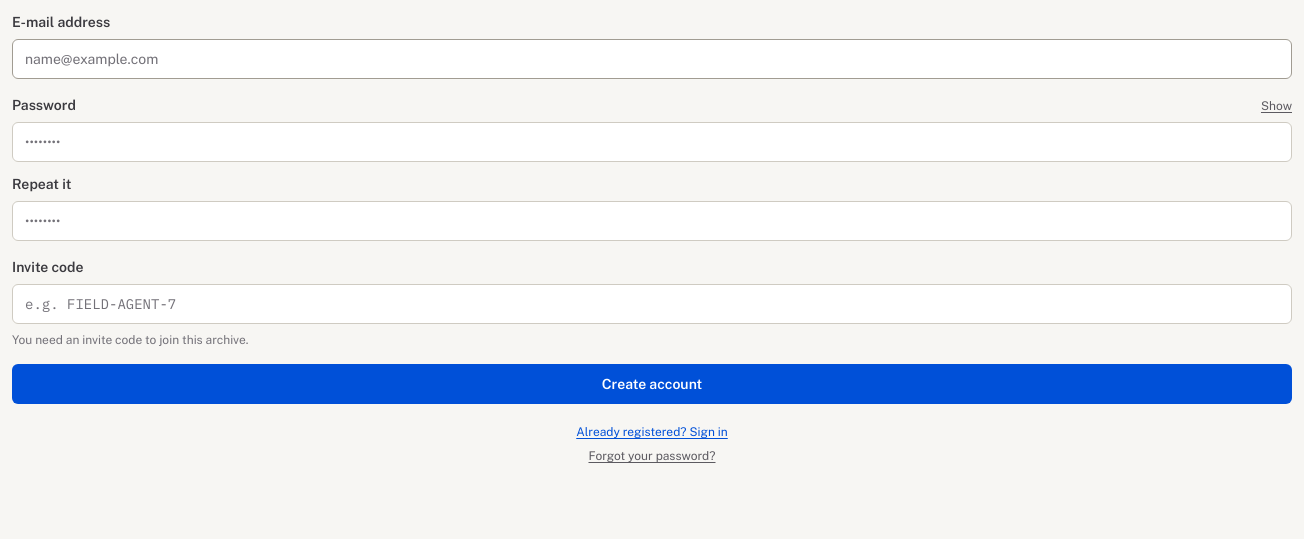
authentication and previews › refuses a signup whose two passwords disagree, without a round trip
Step 1. Type "a@b.test" into the field labelled "E-mail address" → [652, 59], box [12,39,1292,79]
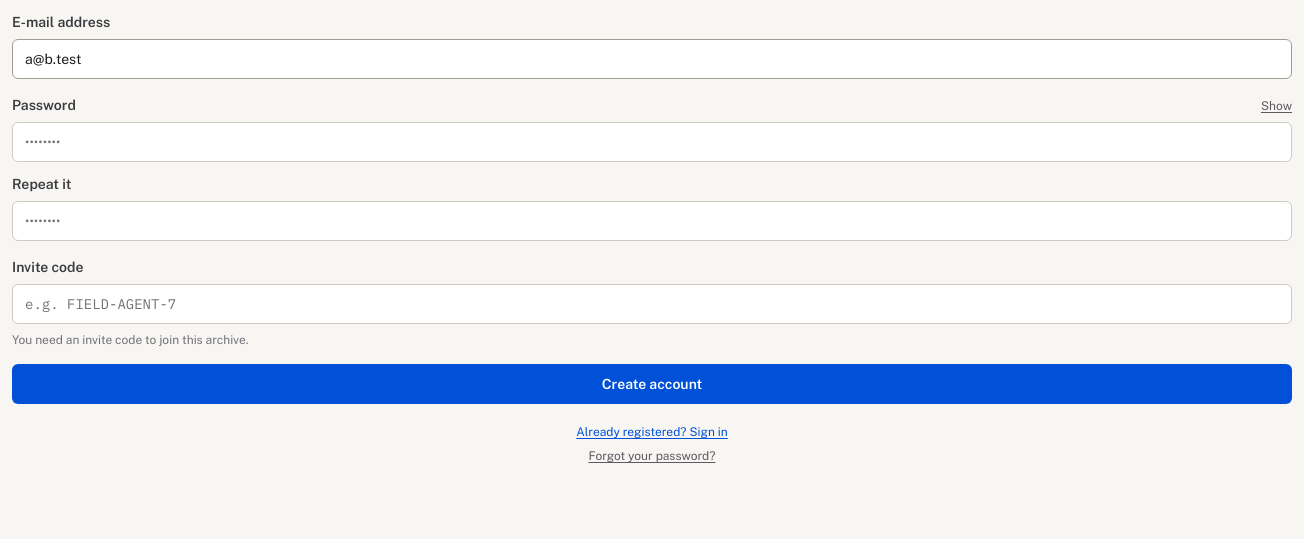
Step 2. Type "example-password" into the password field labelled "Password" → [652, 142], box [12,122,1292,162]
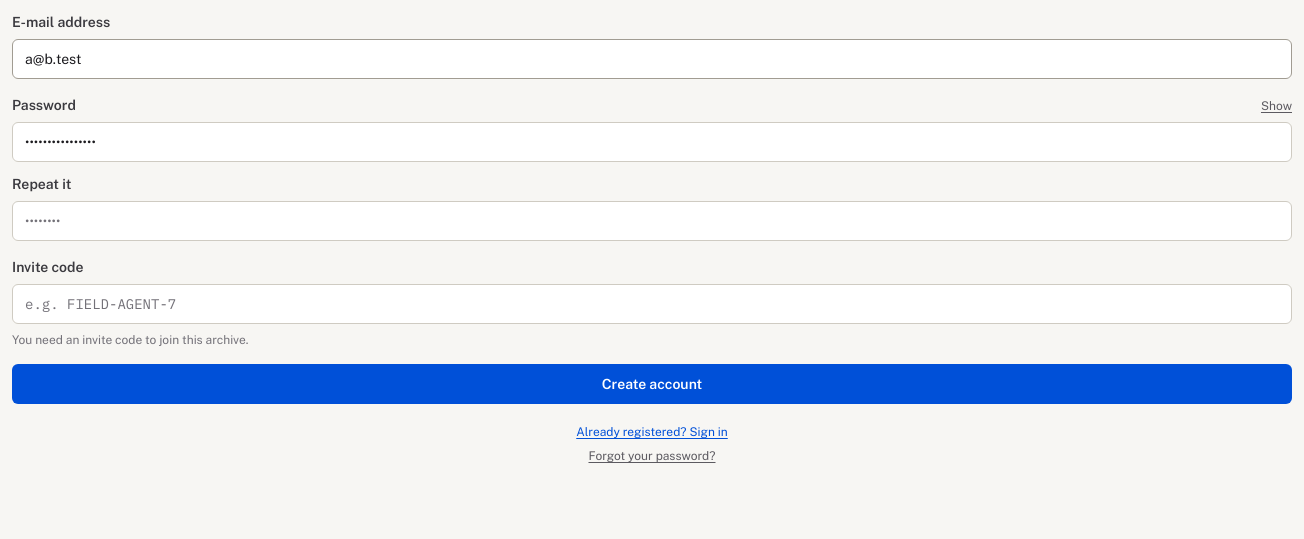
Step 3. Type "example-passwrod" into the password field labelled "Repeat it" → [652, 221], box [12,201,1292,241]
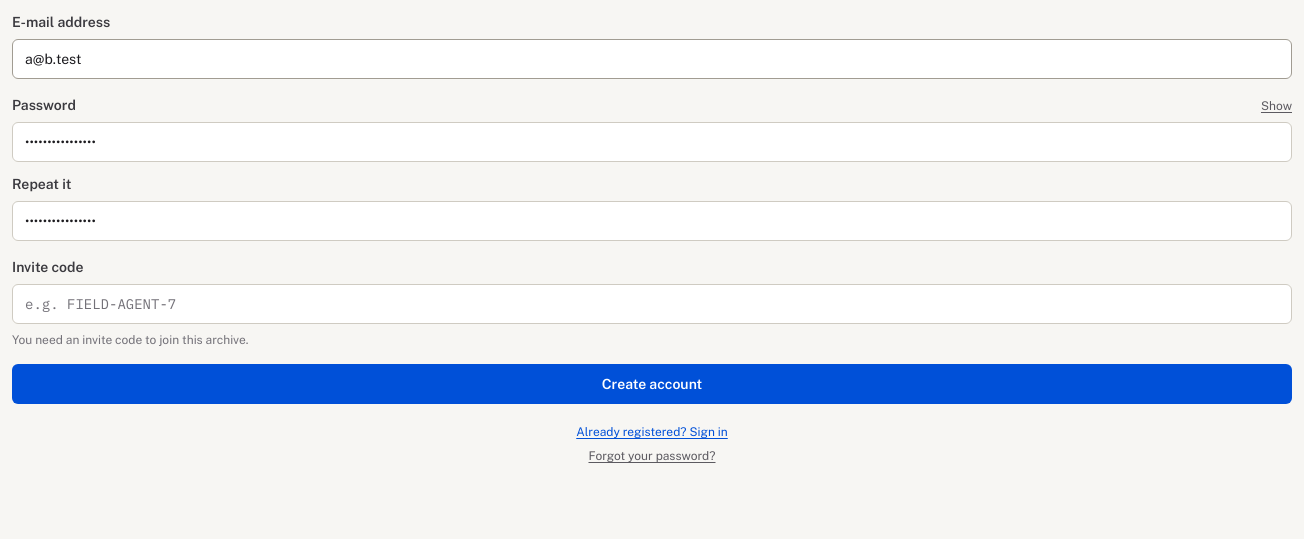
Step 4. Click the button "Create account" → [652, 384], box [12,364,1292,404]
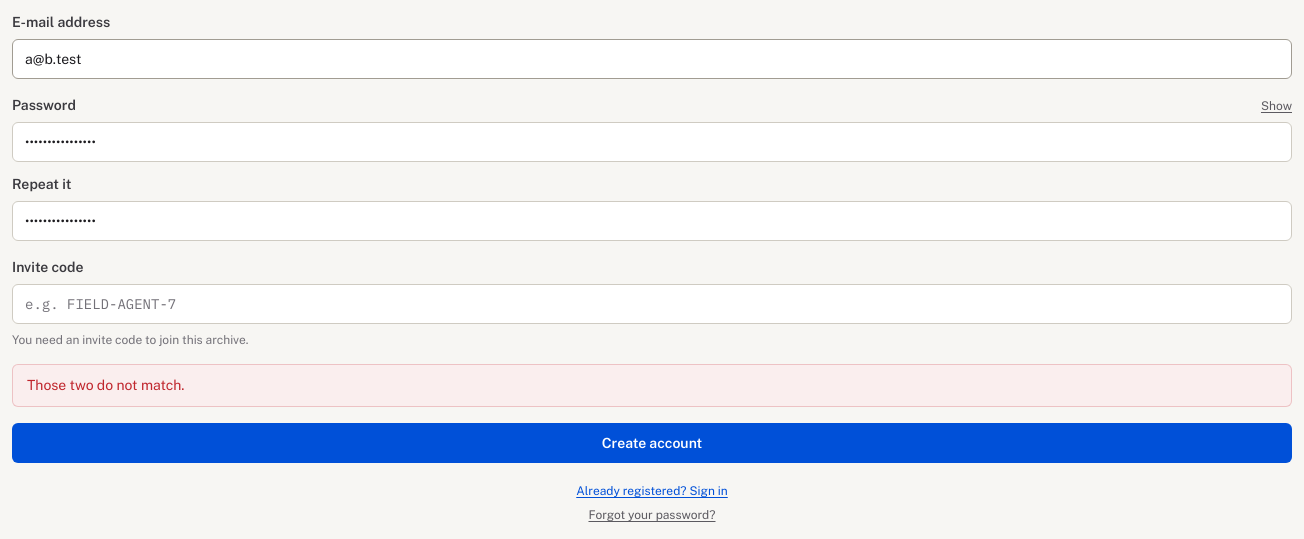
Result: the message reads "Those two do not match." at [27,377,184,393]
